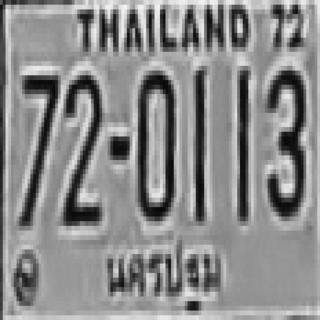N00: (135, 66, 174, 216)
N01: (235, 64, 248, 219), (192, 66, 205, 221)
N02: (62, 71, 101, 221)
N03: (265, 64, 304, 214)
N07: (19, 71, 58, 226), (19, 73, 58, 186)
P28: (101, 235, 226, 316)
